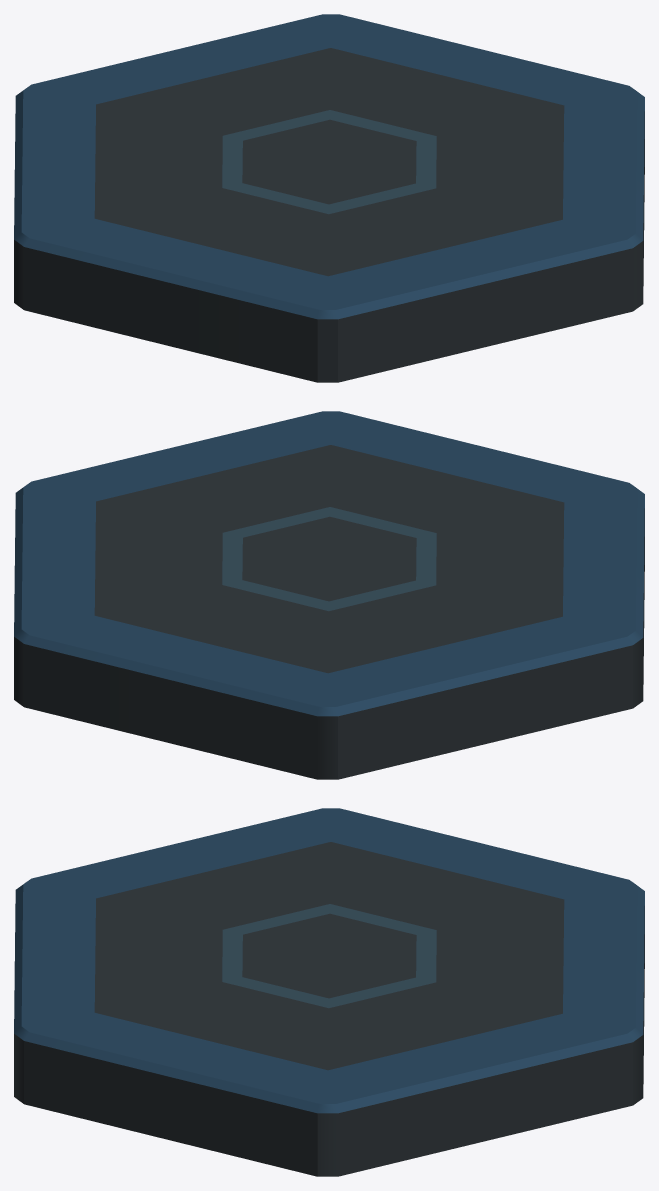
Rendered from aero-ground-hexagon-art.glb.
The picture shows the model from 3 angles, top to bottom: view 1: azimuth 30°, elevation 25°; view 2: azimuth 150°, elevation 25°; view 3: azimuth 270°, elevation 25°; orthographic projection.
Visible parts, largest first — view 1: Aero_Ground_Hexagon_Art; view 2: Aero_Ground_Hexagon_Art; view 3: Aero_Ground_Hexagon_Art.
Boxes of the visible parts, box(x1,y1,x2,y2) form: Aero_Ground_Hexagon_Art: box(14, 14, 644, 382); Aero_Ground_Hexagon_Art: box(14, 411, 644, 779); Aero_Ground_Hexagon_Art: box(14, 808, 644, 1176).
Size of the model in its own units: 8.24 by 0.8847 by 7.27.
